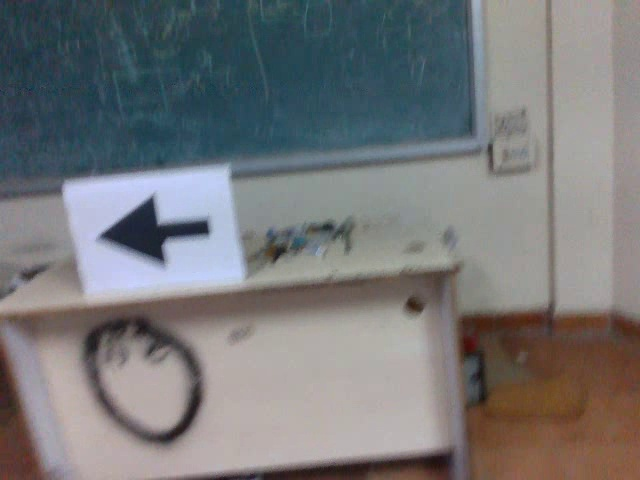Left: (94, 189, 215, 271)
